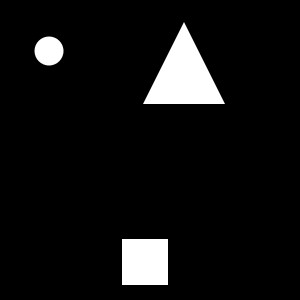circle: (122, 239, 168, 285)
rectangle: (34, 36, 64, 66)
triangle: (143, 22, 225, 104), (158, 58, 191, 91)
